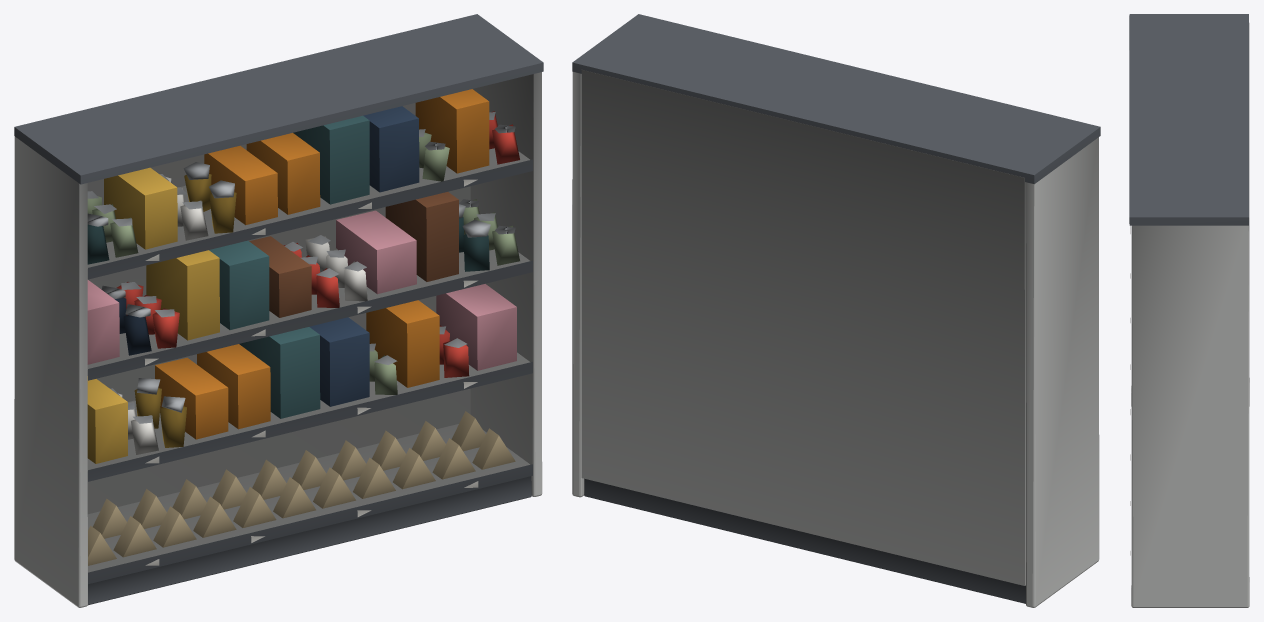
The model's file is groceryShelf.far.glb.
3 renders of one model, left to right at view 1: azimuth 30°, elevation 25°; view 2: azimuth 150°, elevation 25°; view 3: azimuth 270°, elevation 25°, orthographic. The views are drawn at different scales.
Visible parts, largest first — view 1: groceryShelf_far; view 2: groceryShelf_far; view 3: groceryShelf_far.
Part boxes in pixels (x1=…): groceryShelf_far: x1=14, y1=14, x2=543, y2=607; groceryShelf_far: x1=572, y1=14, x2=1100, y2=607; groceryShelf_far: x1=1129, y1=14, x2=1249, y2=607.
Size of the model in its own units: 1.92 by 1.72 by 0.478.
